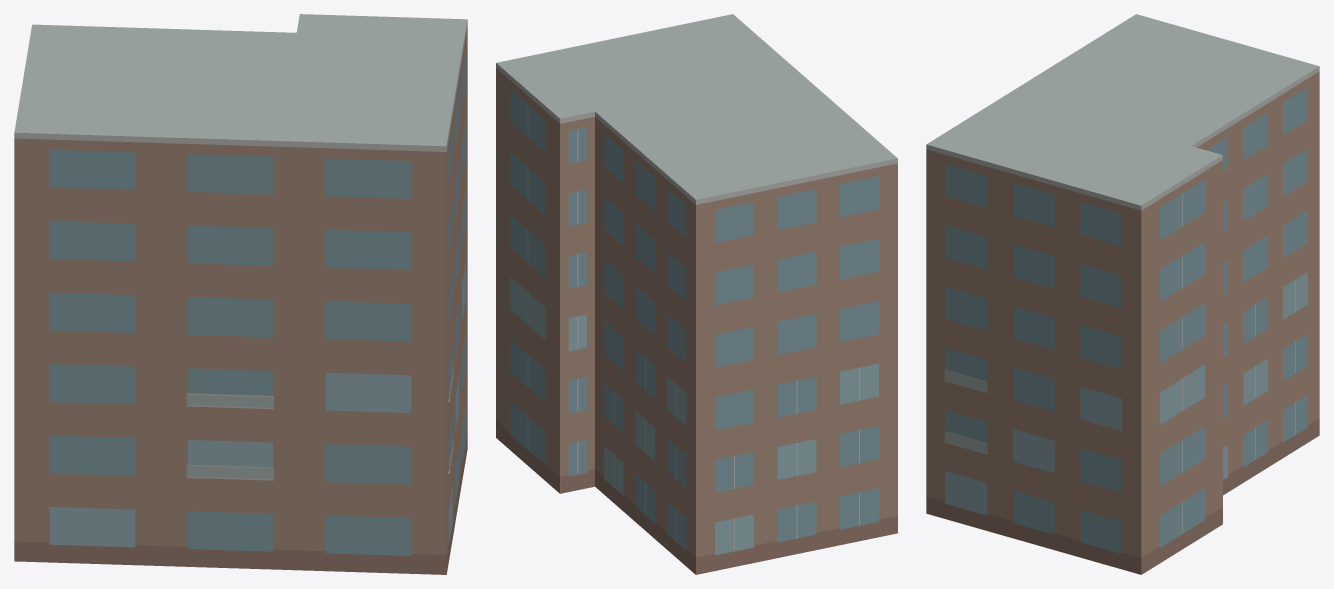
File: survey-upis-33032056.glb
3 views of the same model, side by side, from view 1: azimuth 30°, elevation 25°; view 2: azimuth 150°, elevation 25°; view 3: azimuth 270°, elevation 25° (orthographic). The views are drawn at different scales.
Parts seen in each view (by area): view 1: survey-upis-33032056.tmp; view 2: survey-upis-33032056.tmp; view 3: survey-upis-33032056.tmp.
Part boxes in pixels (x1,y1,x2,y2): survey-upis-33032056.tmp: [14, 14, 467, 574]; survey-upis-33032056.tmp: [496, 14, 897, 574]; survey-upis-33032056.tmp: [926, 14, 1319, 574].
Size of the model in its own units: 20.4 by 18.3 by 17.69.
